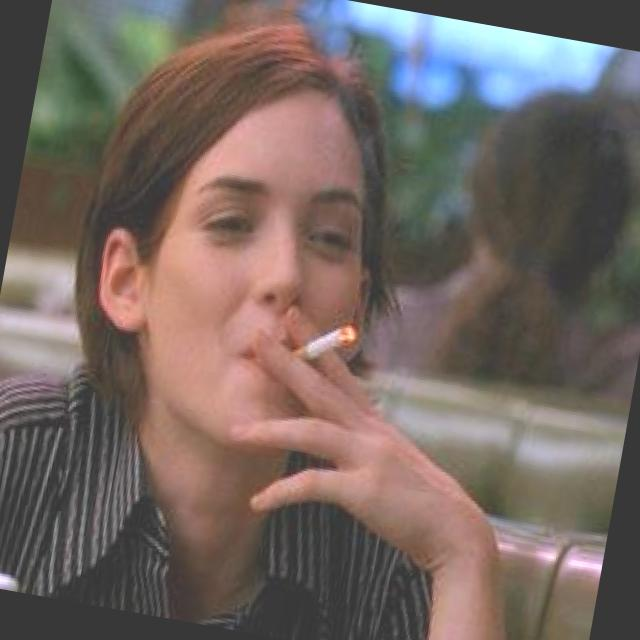smoke: (264, 292, 374, 408)
